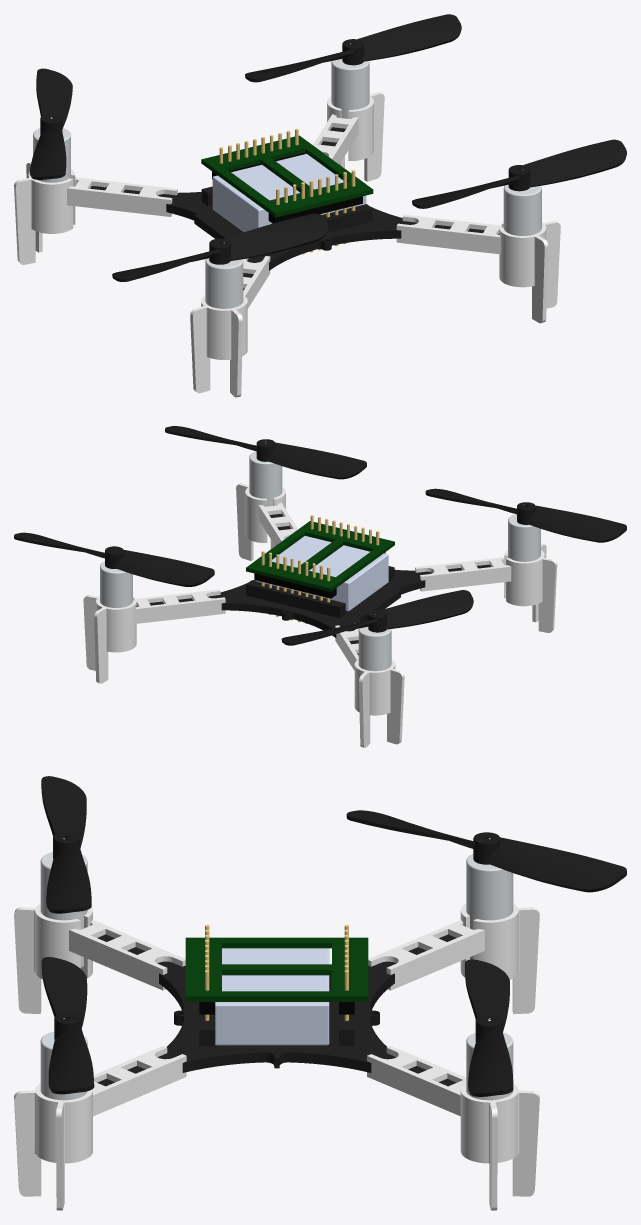
File: drone6.glb
3 renders of one model, top to bottom at view 1: azimuth 30°, elevation 25°; view 2: azimuth 150°, elevation 25°; view 3: azimuth 270°, elevation 25°, orthographic. The views are drawn at different scales.
Visible parts, largest first — view 1: Mesh_0, Mesh_1, Mesh_7, Mesh_6, e4, e3, e1, Mesh_5, e2, Mesh_3, Mesh_4; view 2: Mesh_0, Mesh_7, Mesh_1, Mesh_6, Mesh_5, e2, e1, e3, e4, Mesh_3, Mesh_4; view 3: Mesh_0, Mesh_7, Mesh_5, Mesh_6, e2, Mesh_1, e1, e3, e4, Mesh_3.
Part boxes in pixels (left/top/right/bottom): Mesh_0: left=14, top=92, right=560, bottom=397; Mesh_1: left=33, top=43, right=541, bottom=308; Mesh_7: left=90, top=127, right=499, bottom=290; Mesh_6: left=201, top=135, right=373, bottom=217; e4: left=245, top=14, right=461, bottom=82; e3: left=112, top=213, right=327, bottom=281; e1: left=412, top=139, right=626, bottom=208; Mesh_5: left=212, top=151, right=366, bottom=232; e2: left=29, top=68, right=72, bottom=179; Mesh_3: left=219, top=128, right=355, bottom=254; Mesh_4: left=212, top=152, right=362, bottom=223; Mesh_0: left=83, top=483, right=557, bottom=747; Mesh_7: left=136, top=513, right=490, bottom=655; Mesh_1: left=100, top=441, right=540, bottom=671; Mesh_6: left=246, top=521, right=394, bottom=591; Mesh_5: left=255, top=533, right=388, bottom=611; e2: left=281, top=590, right=473, bottom=645; e1: left=165, top=426, right=366, bottom=479; e3: left=425, top=488, right=626, bottom=542; e4: left=14, top=532, right=214, bottom=586; Mesh_3: left=261, top=515, right=379, bottom=623; Mesh_4: left=255, top=552, right=385, bottom=598; Mesh_0: left=14, top=903, right=539, bottom=1210; Mesh_7: left=97, top=934, right=456, bottom=1086; Mesh_5: left=215, top=948, right=329, bottom=1045; Mesh_6: left=185, top=937, right=368, bottom=1001; e2: left=346, top=810, right=626, bottom=892; Mesh_1: left=40, top=838, right=513, bottom=1100; e1: left=41, top=957, right=94, bottom=1094; e3: left=41, top=776, right=91, bottom=913; e4: left=465, top=959, right=513, bottom=1096; Mesh_3: left=205, top=924, right=348, bottom=1020.
Size of the model in its own units: 0.1107 by 0.0287 by 0.0911.
